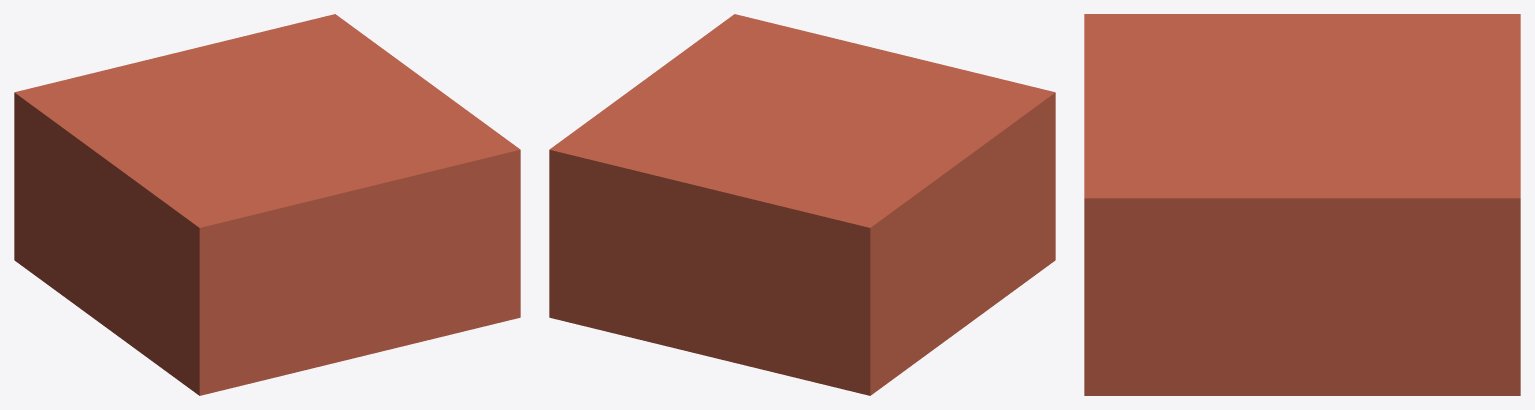
The model's file is Abstract_Castle_Block_Half_Red_01.fbx.
3 renders of one model, left to right at view 1: azimuth 30°, elevation 25°; view 2: azimuth 150°, elevation 25°; view 3: azimuth 270°, elevation 25°, orthographic. The views are drawn at different scales.
Visible parts, largest first — view 1: Model; view 2: Model; view 3: Model.
Part boxes in pixels (bbox=[...]): Model: bbox=[14, 14, 520, 395]; Model: bbox=[549, 14, 1055, 395]; Model: bbox=[1084, 14, 1520, 395].
Bounding box in the file's own units: 1000 × 500 × 1000.
